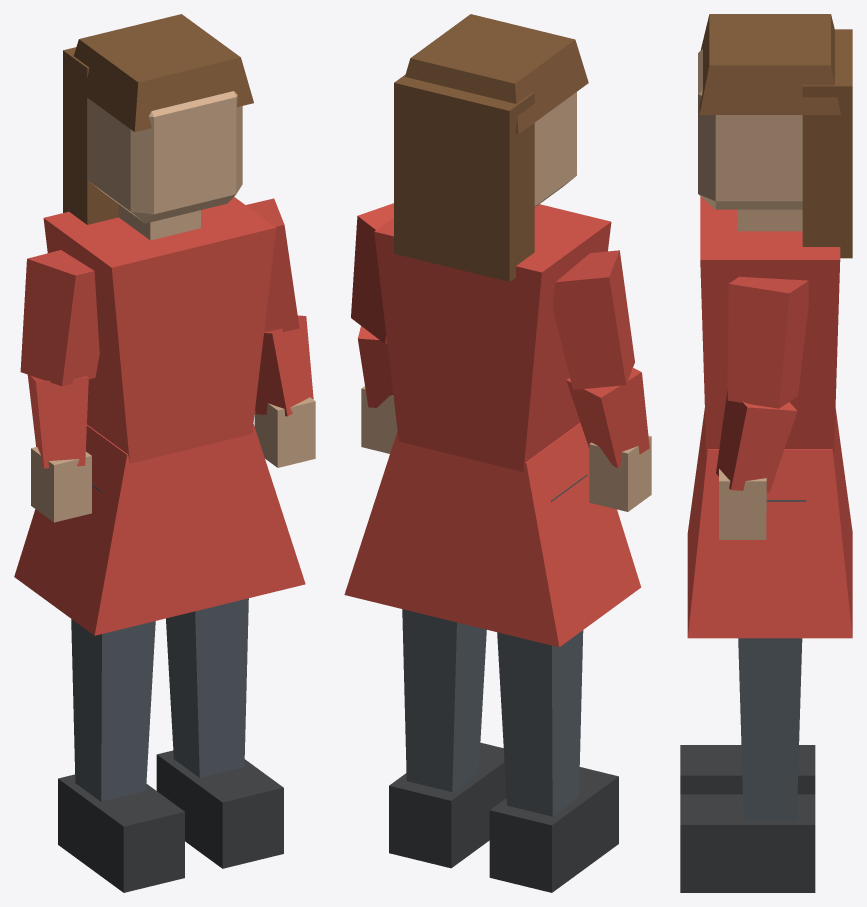
Rendered from Citizen_Female_01_Red_Dress.fbx.
The picture shows the model from 3 angles, left to right: view 1: azimuth 30°, elevation 25°; view 2: azimuth 150°, elevation 25°; view 3: azimuth 270°, elevation 25°; orthographic projection. The views are drawn at different scales.
Visible parts, largest first — view 1: Citizen_Female_01_Red_Dress_Mesh; view 2: Citizen_Female_01_Red_Dress_Mesh; view 3: Citizen_Female_01_Red_Dress_Mesh.
Boxes of the visible parts, x1,y1,x2,y2 form: Citizen_Female_01_Red_Dress_Mesh: (14,14,315,892); Citizen_Female_01_Red_Dress_Mesh: (344,14,651,892); Citizen_Female_01_Red_Dress_Mesh: (680,14,852,892).
Size of the model in its own units: 59.24 by 166 by 31.91.
